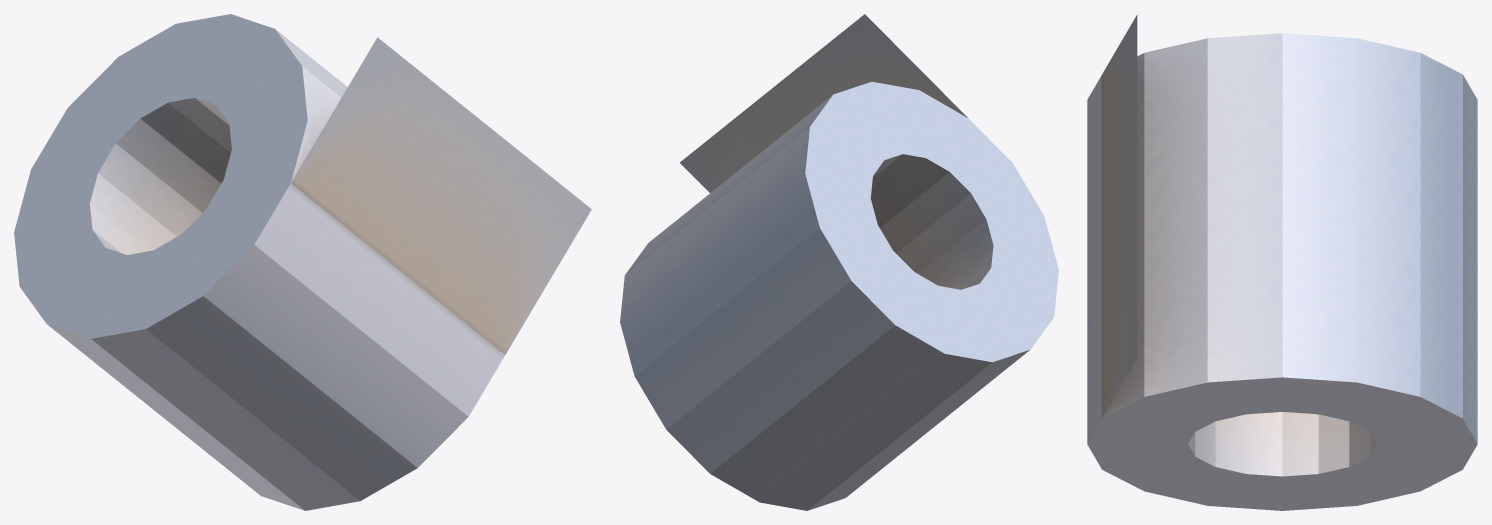
The model's file is toiletpaper.glb.
The picture shows the model from 3 angles, left to right: view 1: azimuth 30°, elevation 25°; view 2: azimuth 150°, elevation 25°; view 3: azimuth 270°, elevation 25°; orthographic projection. The views are drawn at different scales.
Visible parts, largest first — view 1: ToiletPaper_1; view 2: ToiletPaper_1; view 3: ToiletPaper_1.
Part boxes in pixels (<box>): ToiletPaper_1: <box>14,14,591,510</box>; ToiletPaper_1: <box>620,14,1058,510</box>; ToiletPaper_1: <box>1087,14,1477,510</box>.
Bounding box in the file's own units: 2.49 × 2.49 × 1.69.
1 material, 1 textured.
